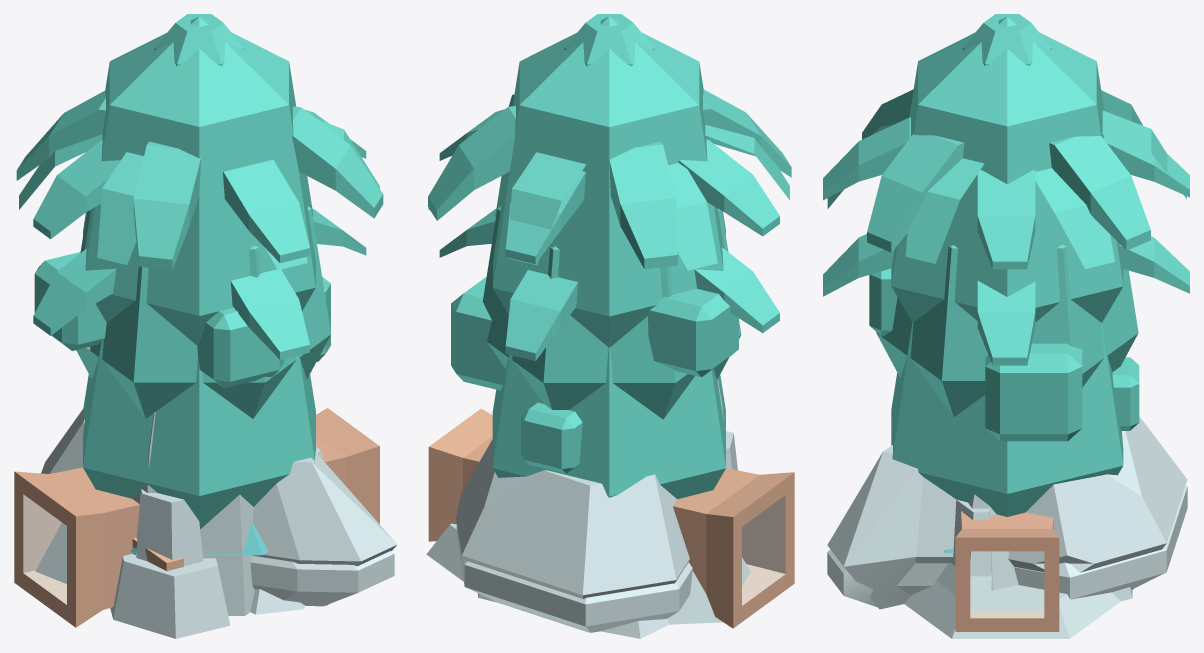
File: nature.glb
3 views of the same model, side by side, from view 1: azimuth 30°, elevation 25°; view 2: azimuth 150°, elevation 25°; view 3: azimuth 270°, elevation 25° (orthographic).
Visible parts, largest first — view 1: tree_default, tree_fat, log_large, leafs (×2), tree_oak, stone_tallB, stone_largeB, tree_palmShort, tree_detailed, tree_palmTall, stone_tallA, tree_palmBend (+3 smaller); view 2: tree_default, stone_largeB, log_large, leafs (×2), tree_fat, tree_detailed, tree_oak, tree_palmShort, tree_palmBend, stone_largeA, tree_palmTall, stone_tallA (+2 smaller); view 3: tree_default, stone_largeB, tree_fat, leafs (×2), tree_oak, tree_detailed, tree_palmBend, tree_palmShort, stone_tallA, log_large, stone_largeA, tree_palmTall (+2 smaller).
Part boxes in pixels (bbox=[...]): tree_default: bbox=[83, 16, 315, 345]; tree_fat: bbox=[83, 339, 315, 529]; log_large: bbox=[14, 408, 379, 627]; leafs (×2): bbox=[16, 91, 383, 270]; tree_oak: bbox=[76, 206, 330, 418]; stone_tallB: bbox=[110, 489, 305, 638]; stone_largeB: bbox=[41, 409, 397, 605]; tree_palmShort: bbox=[33, 208, 366, 359]; tree_detailed: bbox=[34, 252, 330, 388]; tree_palmTall: bbox=[48, 110, 328, 238]; stone_tallA: bbox=[35, 412, 323, 615]; tree_palmBend: bbox=[19, 119, 379, 269]; tree_default: bbox=[493, 16, 725, 347]; stone_largeB: bbox=[456, 439, 689, 632]; log_large: bbox=[428, 408, 794, 628]; leafs (×2): bbox=[428, 89, 791, 269]; tree_fat: bbox=[492, 347, 725, 499]; tree_detailed: bbox=[451, 277, 738, 473]; tree_oak: bbox=[482, 206, 741, 419]; tree_palmShort: bbox=[439, 209, 779, 360]; tree_palmBend: bbox=[428, 94, 789, 270]; stone_largeA: bbox=[456, 525, 692, 632]; tree_palmTall: bbox=[439, 109, 763, 263]; stone_tallA: bbox=[426, 379, 750, 624]; tree_default: bbox=[891, 16, 1123, 322]; stone_largeB: bbox=[827, 416, 1187, 609]; tree_fat: bbox=[891, 322, 1123, 516]; leafs (×2): bbox=[823, 89, 1189, 269]; tree_oak: bbox=[876, 245, 1138, 416]; tree_detailed: bbox=[869, 268, 1139, 441]; tree_palmBend: bbox=[827, 110, 1186, 268]; tree_palmShort: bbox=[823, 234, 1189, 365]; stone_tallA: bbox=[904, 499, 1120, 638]; log_large: bbox=[955, 511, 1059, 631]; stone_largeA: bbox=[827, 485, 1187, 607]; tree_palmTall: bbox=[823, 117, 1168, 267].
Bounding box in the file's own units: 1.03 × 1.71 × 1.03.
